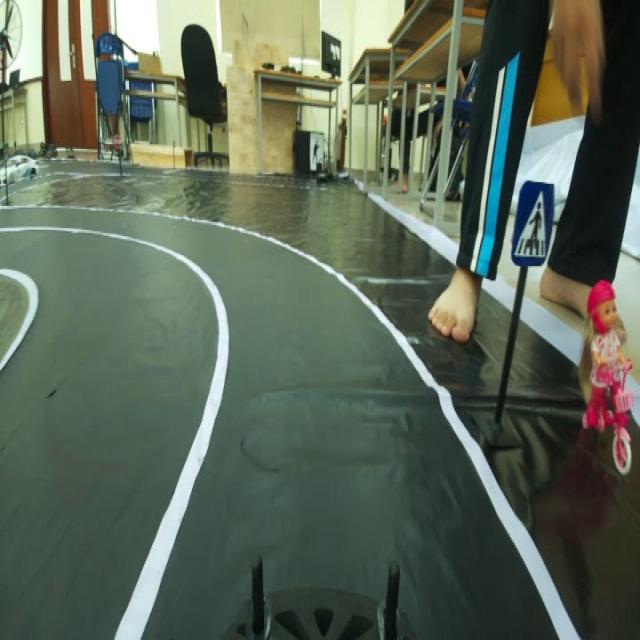crosswalk: (513, 179, 555, 266)
pedestrian: (568, 271, 634, 475)
